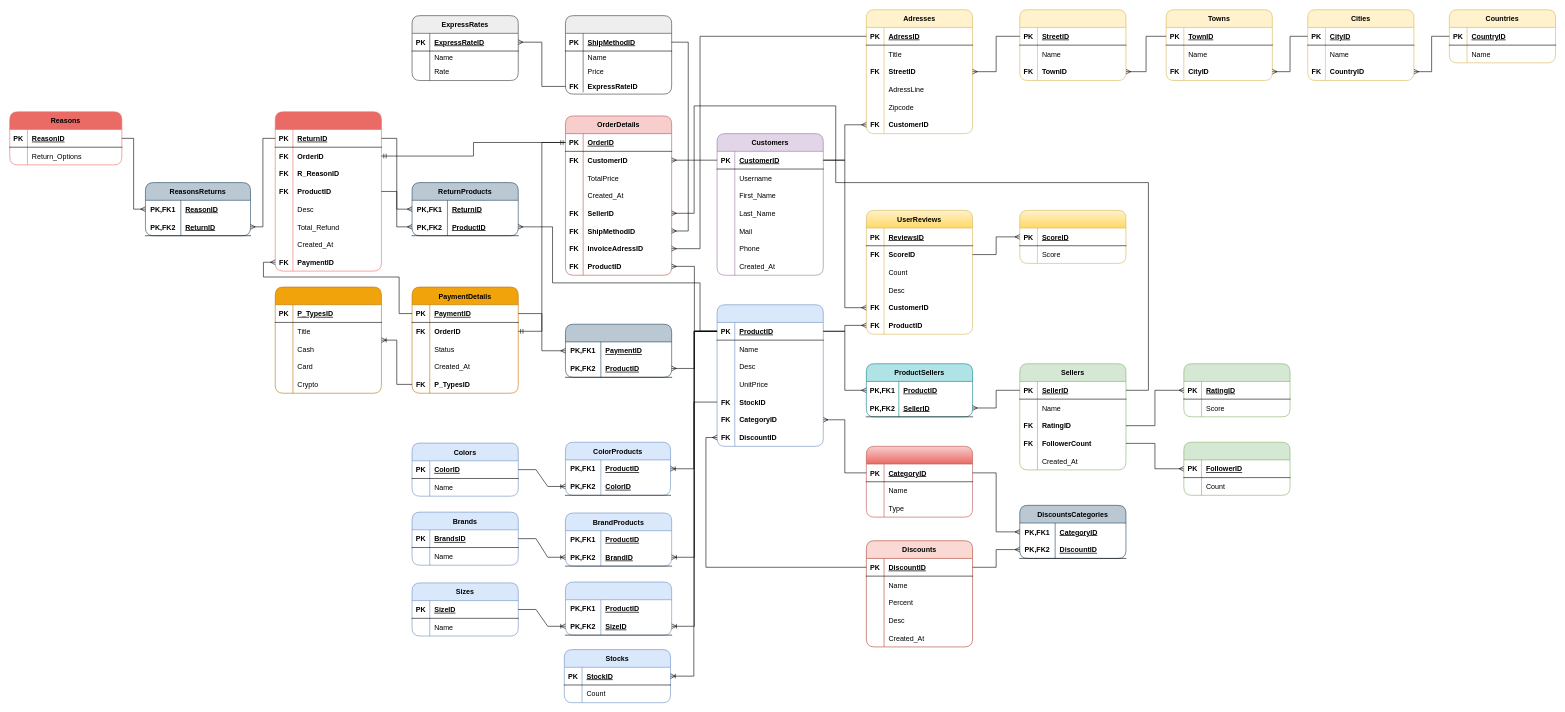
Image size: 1565x712. Some labels were removed from this diagram. The shapes that lost their labels are listed below. From the top down, each one's box as (x1, y1, x2, y2) in pixels, then its label:
(565, 15, 672, 94): ShipmentMethods
(1019, 9, 1126, 81): Streets
(275, 111, 381, 271): Returns
(1019, 210, 1126, 263): Scores
(275, 286, 381, 393): PaymentTypes
(565, 324, 672, 377): PaymentProducts
(716, 304, 823, 446): Products
(1183, 363, 1290, 417): Ratings
(866, 446, 973, 517): Categories
(1183, 442, 1290, 495): Followers
(565, 581, 672, 635): SizeProducts
